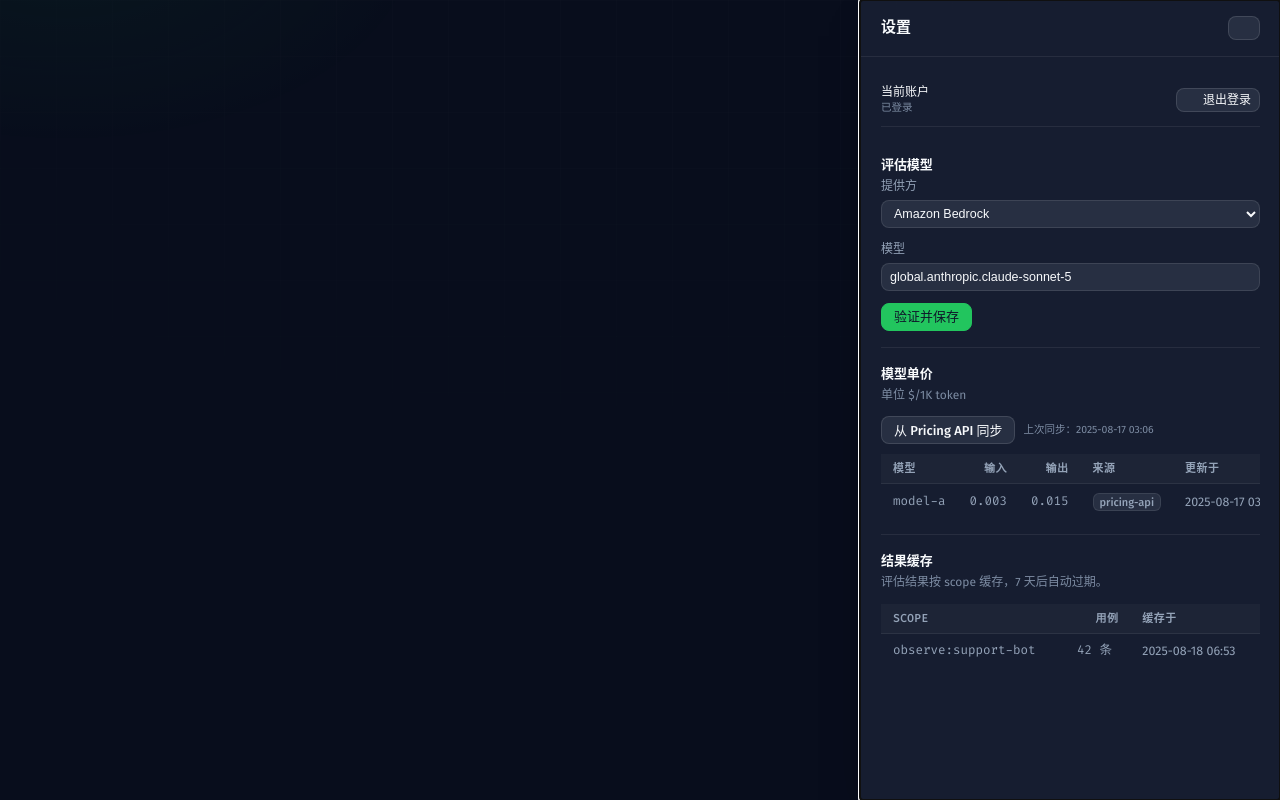
Test case: 设置抽屉三分节 › 保存评估模型失败时红条显示 error 原文
The image size is (1280, 800).
Check: the field with test id "settings-judge-model" is not empty, box [881,263,1260,291]
Step 1. Click the button with test id "settings-judge-save" → click(926, 317), box [881,303,972,331]
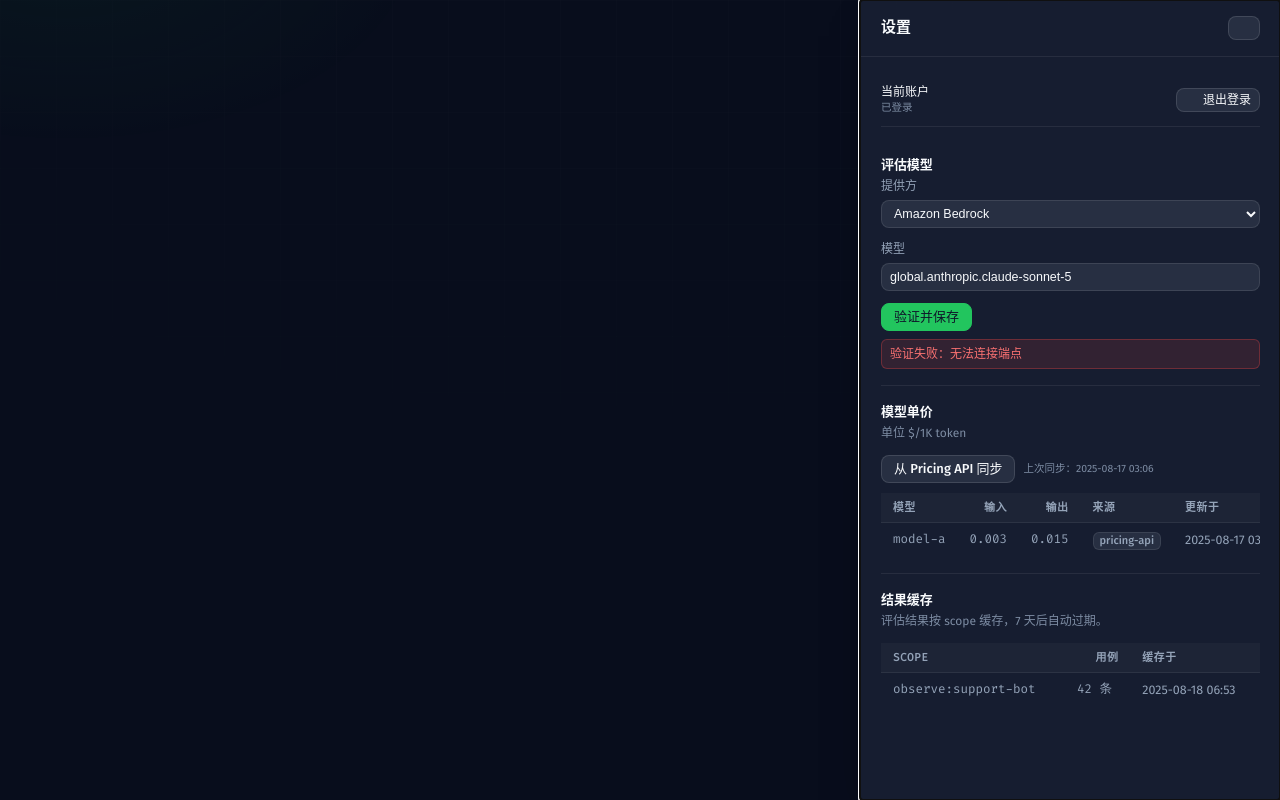
Check: the message with test id "settings-judge-error" reads "验证失败：无法连接端点", box [890,347,1022,361]
